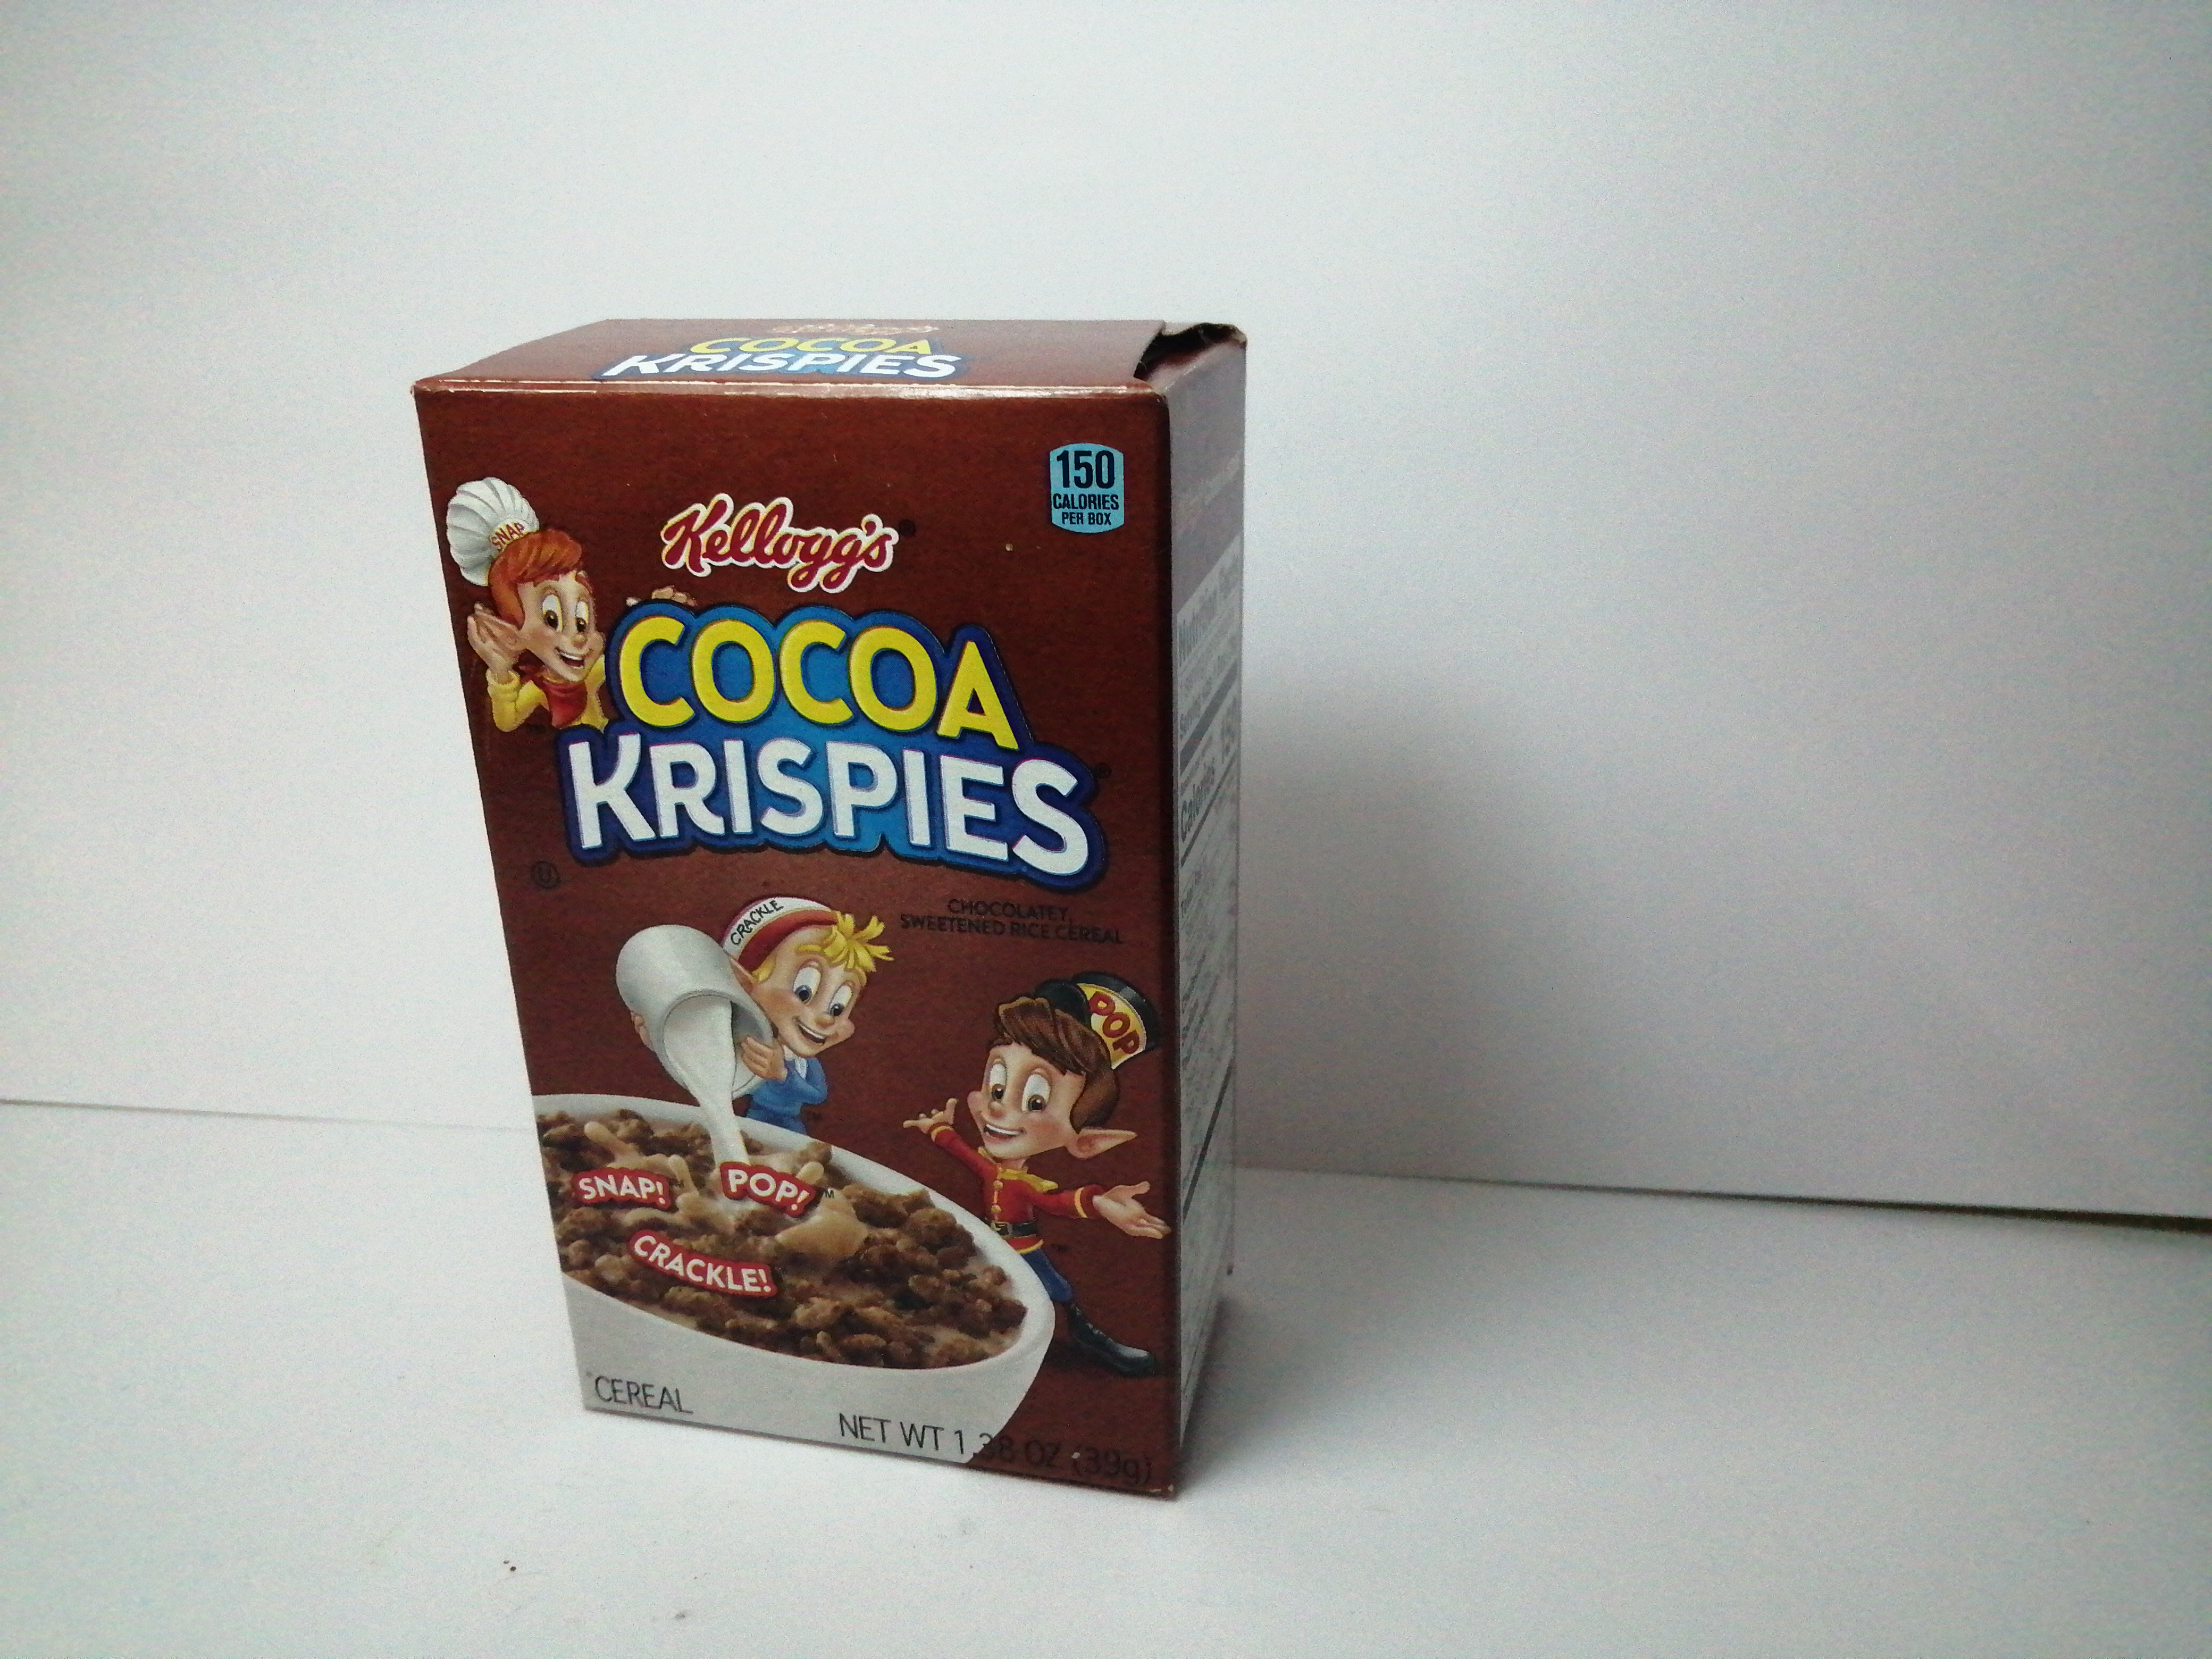cereal chocolate: (397, 296, 1313, 1507)
